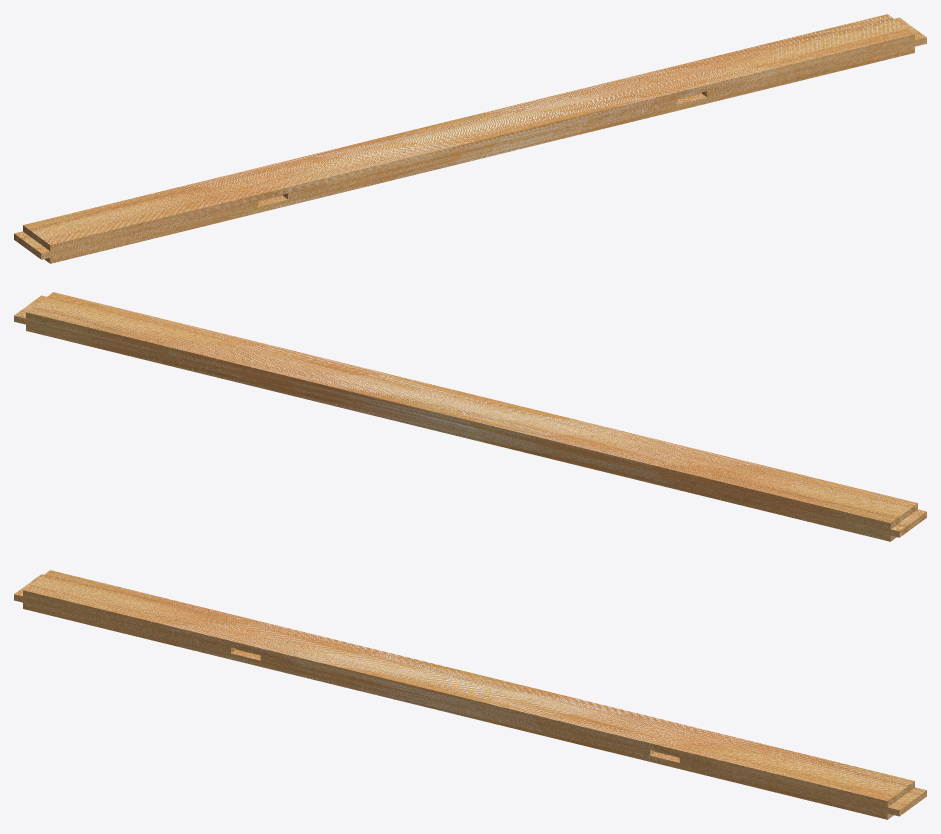
Rendered from original-31.obj.
3 renders of one model, top to bottom at view 1: azimuth 30°, elevation 25°; view 2: azimuth 150°, elevation 25°; view 3: azimuth 330°, elevation 25°, orthographic.
Visible parts, largest first — view 1: rear_drawer_support_1_1/rear_drawer_support_1/mesh65/mesh65-geom; view 2: rear_drawer_support_1_1/rear_drawer_support_1/mesh65/mesh65-geom; view 3: rear_drawer_support_1_1/rear_drawer_support_1/mesh65/mesh65-geom.
Boxes of the visible parts, bbox=[...] form: rear_drawer_support_1_1/rear_drawer_support_1/mesh65/mesh65-geom: bbox=[14, 14, 926, 263]; rear_drawer_support_1_1/rear_drawer_support_1/mesh65/mesh65-geom: bbox=[14, 292, 926, 541]; rear_drawer_support_1_1/rear_drawer_support_1/mesh65/mesh65-geom: bbox=[14, 570, 926, 819].
Size of the model in its own units: 1.13 by 0.0228 by 0.0609.
Materials: 2 (1 with a texture image).
